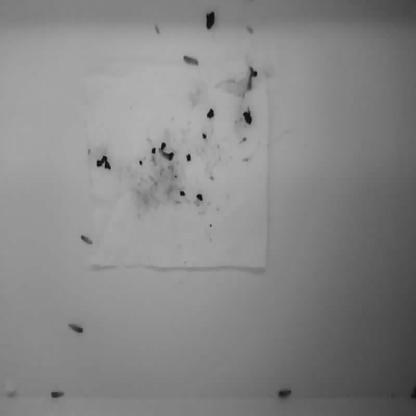PtecticusTenebrifer: (182, 52, 199, 66), (69, 322, 86, 336), (158, 147, 173, 160), (82, 232, 94, 246), (51, 389, 64, 399), (278, 388, 291, 398)
